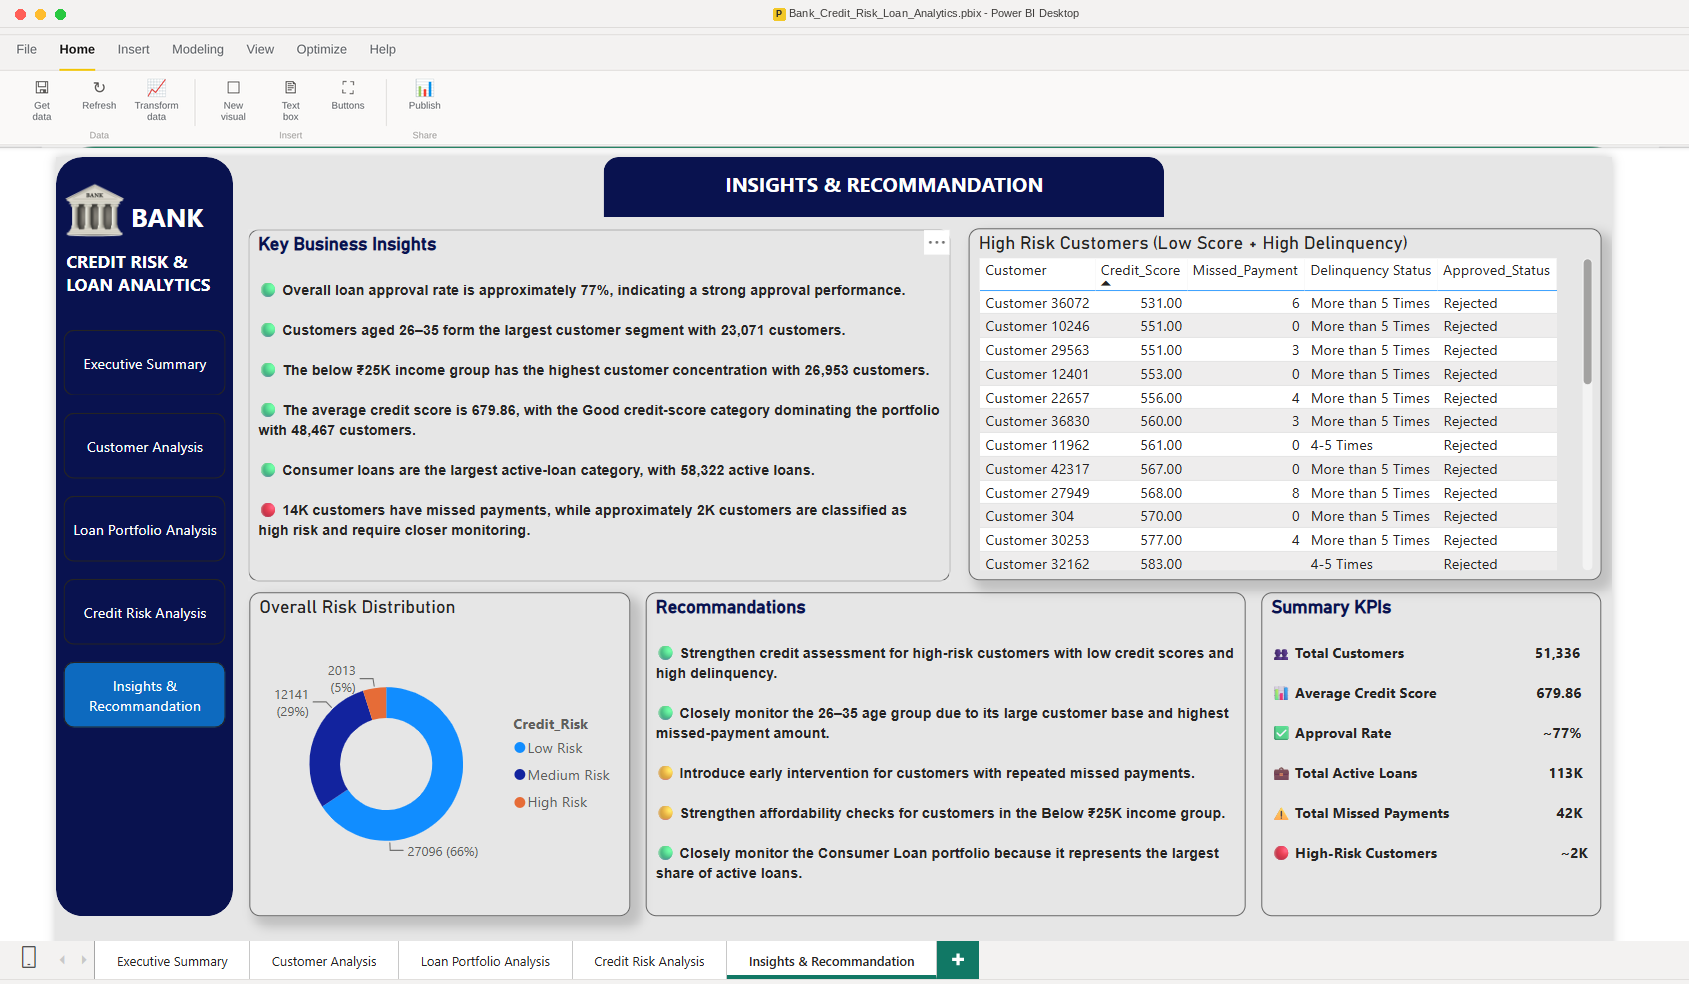

The dashboard page shown, as its layout file describes it:
{"tool":"powerbi","page":{"name":"Insights & Recommendations","canvas":[1404,730],"ordinal":4},"visuals":[{"type":"shape","box":[16.4,6.2,165,720],"z":0},{"type":"image","box":[16.4,27,71.8,77],"z":1000},{"type":"textbox","box":[88.1,51.9,85.3,36.4],"z":2000},{"type":"textbox","box":[24.7,103.9,174.3,55.7],"z":3000},{"type":"shape","box":[23.9,184.1,148.7,375.5],"z":4000},{"type":"actionButton","title":"Executive Summary","box":[23.9,199.7,145,60.3],"z":5000},{"type":"actionButton","title":"Executive Summary","box":[25,272.7,145,60.3],"z":6000},{"type":"actionButton","title":"Executive Summary","box":[23.9,345.8,145,60.3],"z":7000},{"type":"actionButton","title":"Executive Summary","box":[25,418.9,145,60.3],"z":8000},{"type":"actionButton","title":"Executive Summary","box":[25,491.9,145,60.3],"z":9000},{"type":"shape","box":[587.5,5.4,390.5,55.9],"z":10000},{"type":"textbox","box":[619.1,16,329.3,34.8],"z":11000},{"type":"textbox","box":[199,70,655,306],"z":12000},{"type":"tableEx","title":"High Risk Customers (Low Score + High Delinquency)","fields":{"Values":["Dim_Customer.Customer","Avg(Dim_Customer.Credit_Score)","Sum(Fact_loan.Tot_Missed_Pmnt)","Dim_Customer.Delinquency Group","Dim_Customer.Approved_Status"]},"box":[864,70,532,306],"z":12001},{"type":"pieChart","title":"Overall Risk Distribution","fields":{"Category":["Fact_loan.Credit_Risk"],"Y":["CountNonNull(Dim_Customer.PROSPECTID)"]},"box":[199,386,347,320],"z":12002},{"type":"textbox","box":[556,386,499,320],"z":12003},{"type":"textbox","box":[1067,386,329,320],"z":12004}]}

Visuals, with their boxes on the page's 1404x730 design canvas (x1, y1, x2, y2). These are canvas units, not pixel positions in the 1689x984 screenshot, which may show the page scaled, cropped or inside an application window:
shape: region(16, 6, 181, 726)
image: region(16, 27, 88, 104)
textbox: region(88, 52, 173, 88)
textbox: region(25, 104, 199, 160)
shape: region(24, 184, 173, 560)
"Executive Summary" actionButton: region(24, 200, 169, 260)
"Executive Summary" actionButton: region(25, 273, 170, 333)
"Executive Summary" actionButton: region(24, 346, 169, 406)
"Executive Summary" actionButton: region(25, 419, 170, 479)
"Executive Summary" actionButton: region(25, 492, 170, 552)
shape: region(588, 5, 978, 61)
textbox: region(619, 16, 948, 51)
textbox: region(199, 70, 854, 376)
"High Risk Customers (Low Score + High Delinquency)" tableEx: region(864, 70, 1396, 376)
"Overall Risk Distribution" pieChart: region(199, 386, 546, 706)
textbox: region(556, 386, 1055, 706)
textbox: region(1067, 386, 1396, 706)
